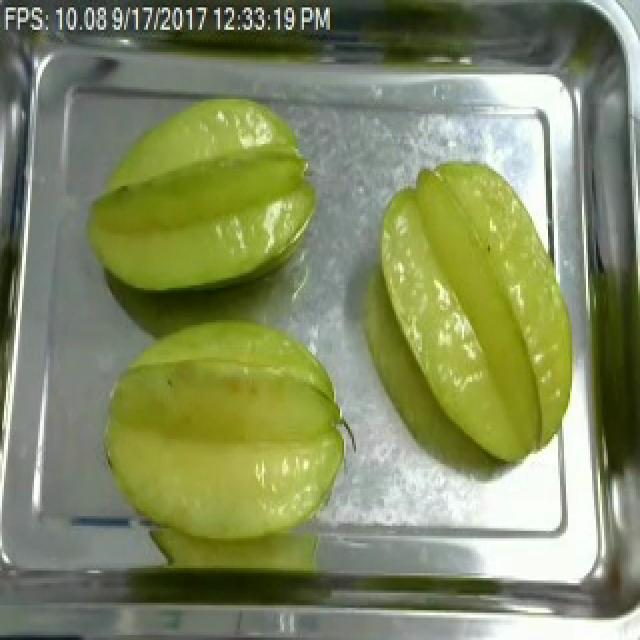fruit: (88, 302, 356, 570), (366, 152, 584, 476), (74, 84, 330, 303)
